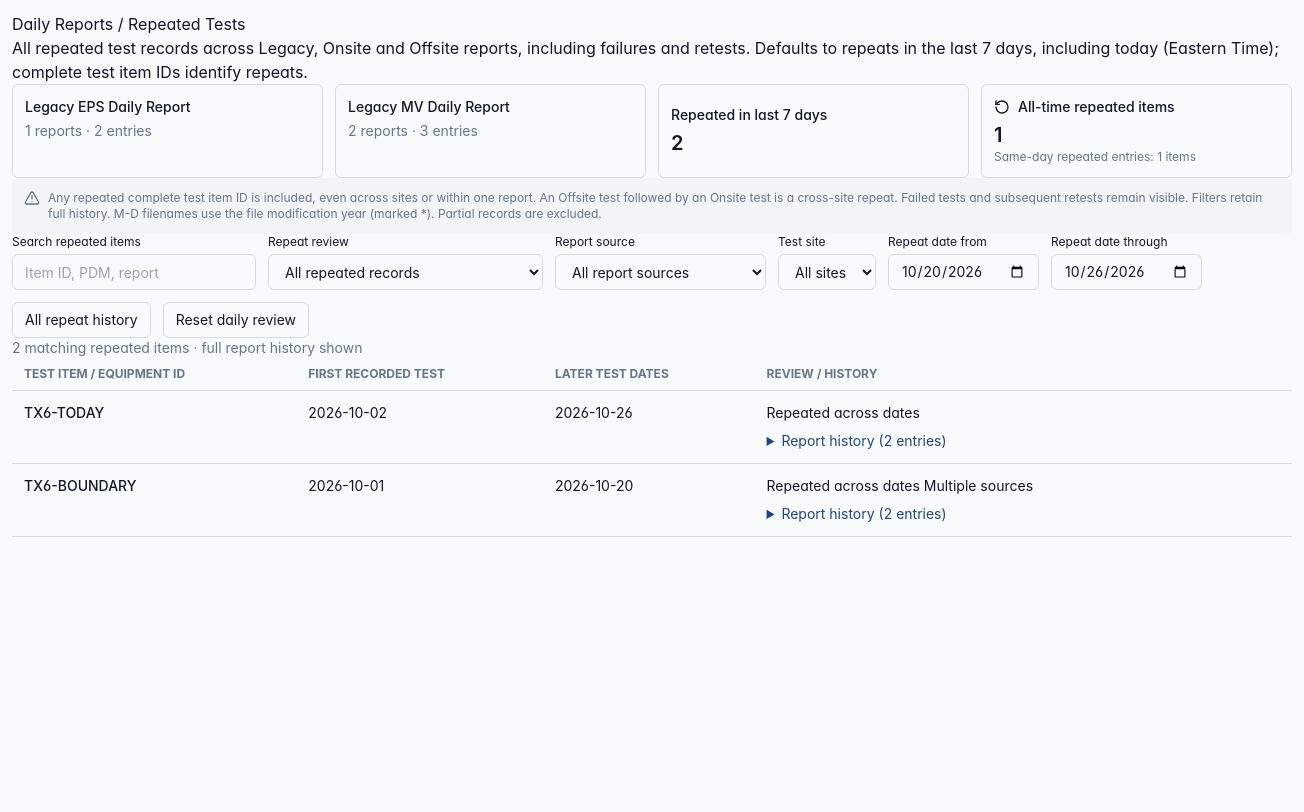
DailyReportAuditPanel › defaults to seven days, excludes first-only and future repeats, and resets to the recent window
Expected: the date field labelled "Repeat date from" holds "2026-10-20", 888,254 -> 1039,290
Expected: the date field labelled "Repeat date through" holds "2026-10-26", 1051,254 -> 1202,290
Click the heading "Report history (2 entries)" below "Multiple sources" at (864, 514), box 781,505 -> 947,522
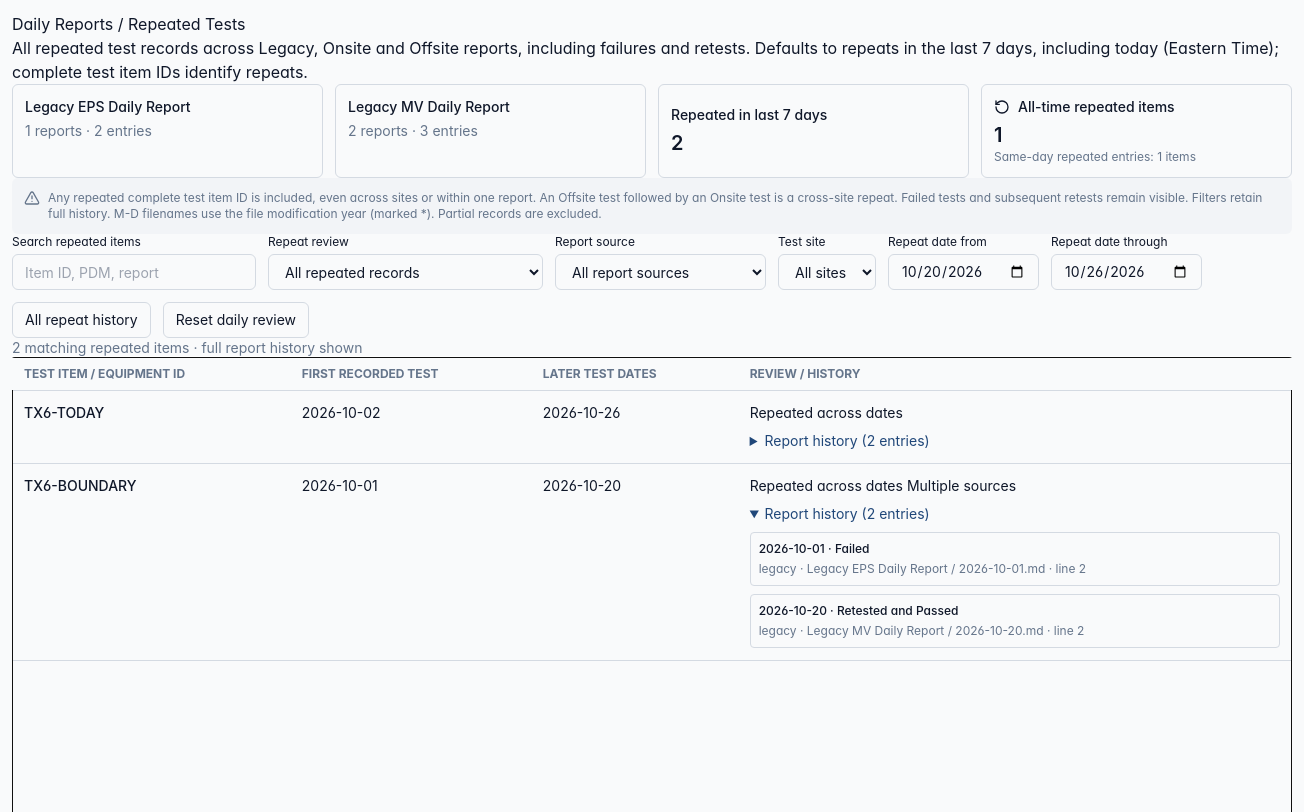
Now the text "2026-10-01 · Failed" is shown, box 759,541 -> 869,556
Select "Legacy EPS Daily Report" in the dropdown labelled "Report source" at (660, 272), box 555,254 -> 766,290
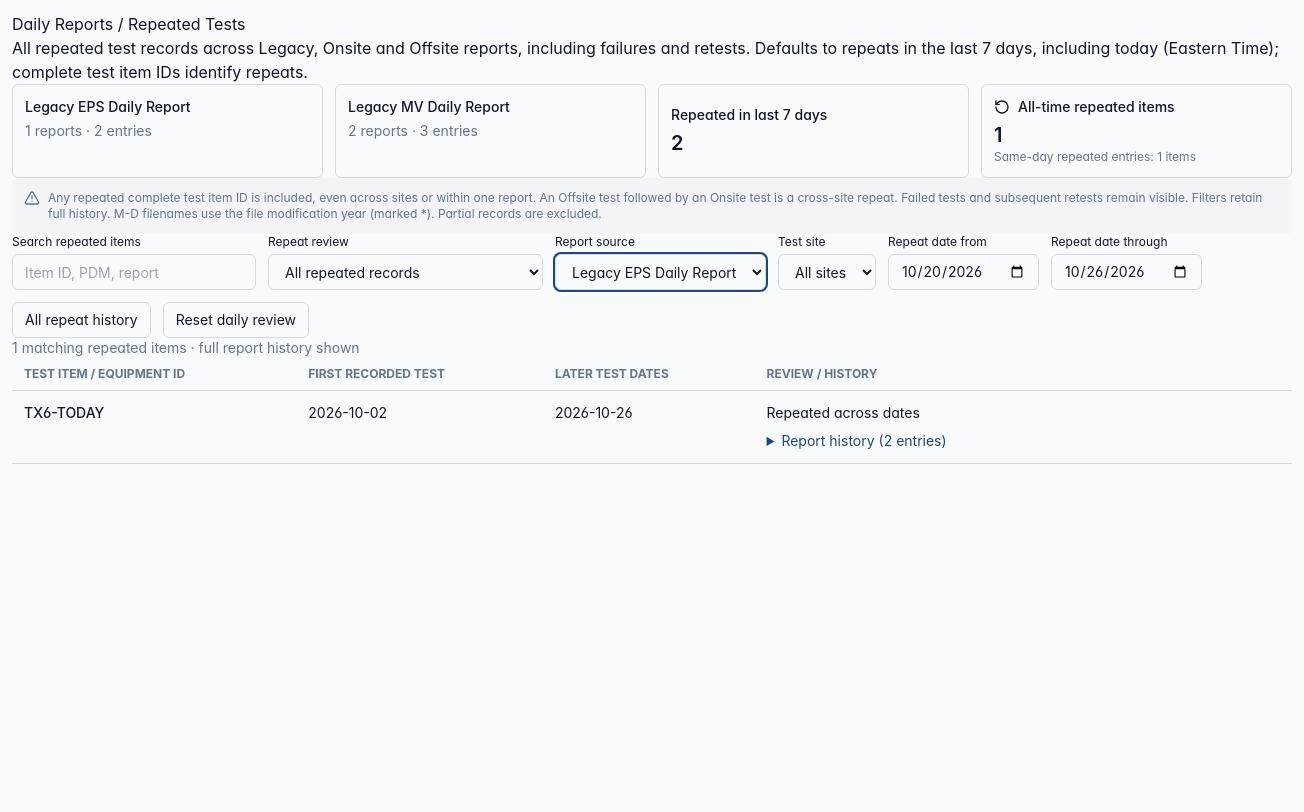
Now the text "TX6-BOUNDARY" is gone
Select "All report sources" in the dropdown labelled "Report source" at (660, 272), box 555,254 -> 766,290
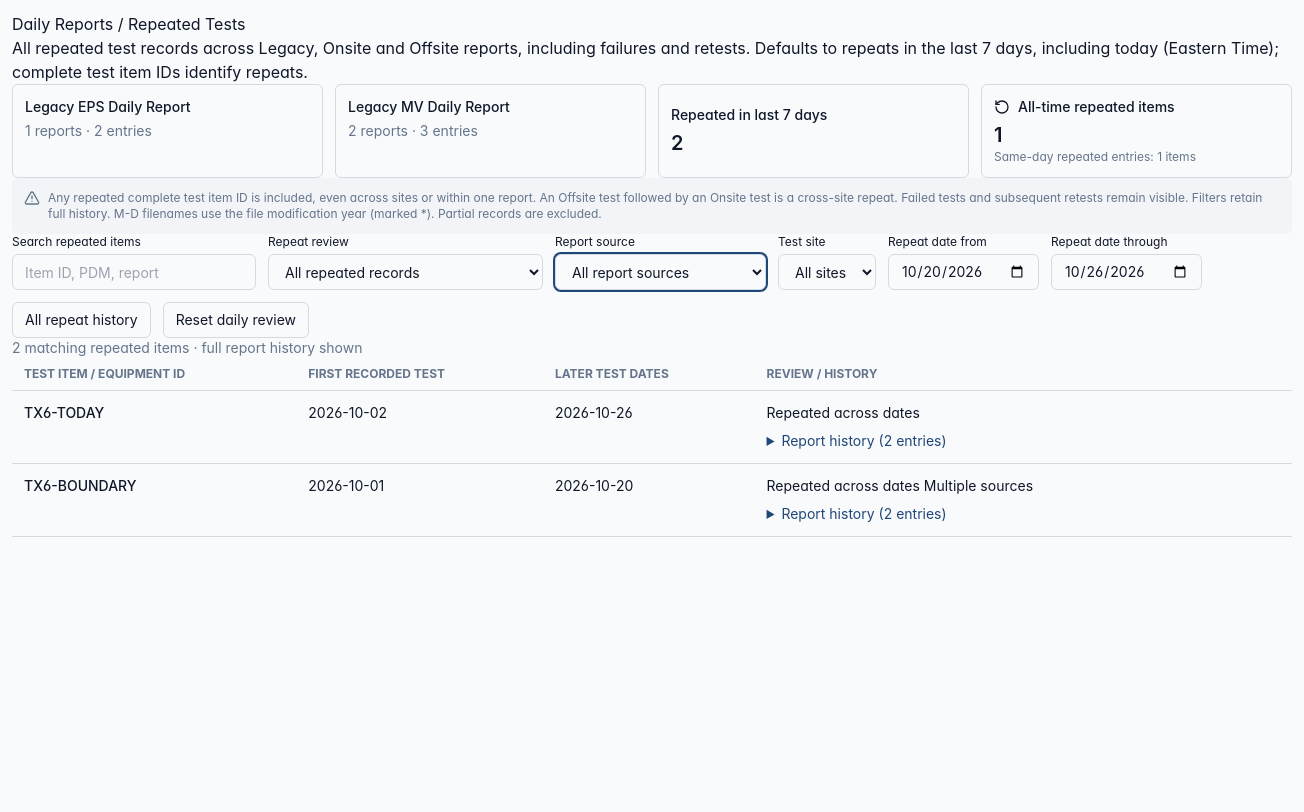
Click the button "All repeat history" at (81, 320), box 12,302 -> 151,338
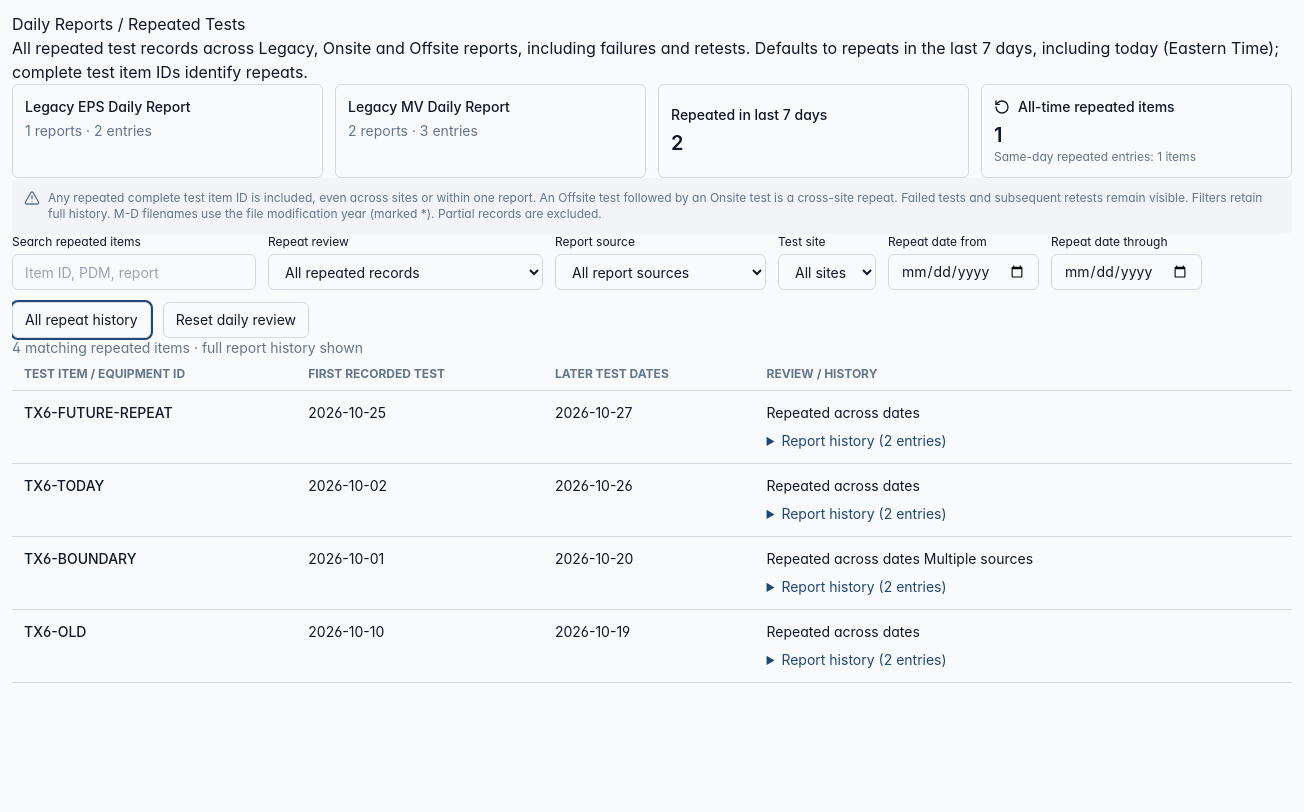
Now the text "TX6-OLD" is shown, box 12,610 -> 296,682
Click the button "Reset daily review" at (236, 320), box 163,302 -> 309,338
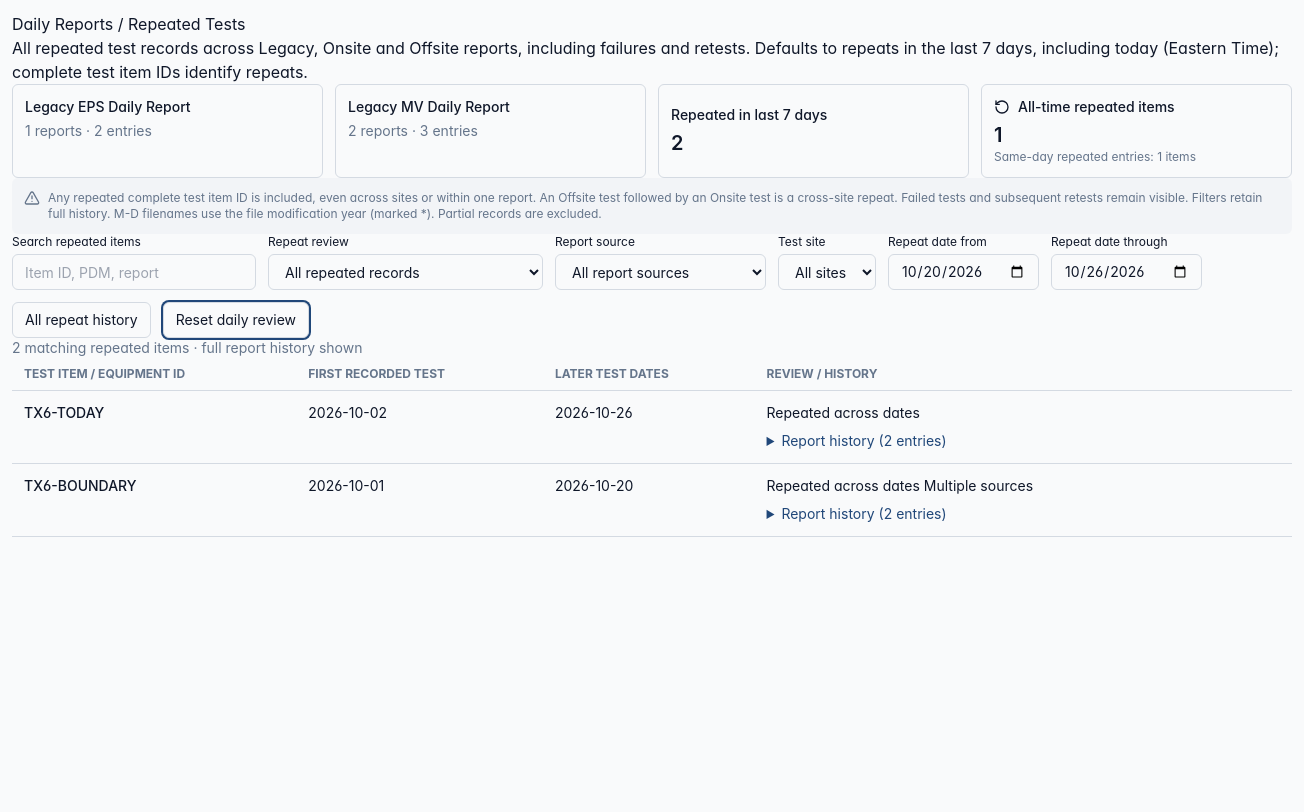
Now the date field labelled "Repeat date from" holds "2026-10-20", box 888,254 -> 1039,290
Now the text "TX6-OLD" is gone
